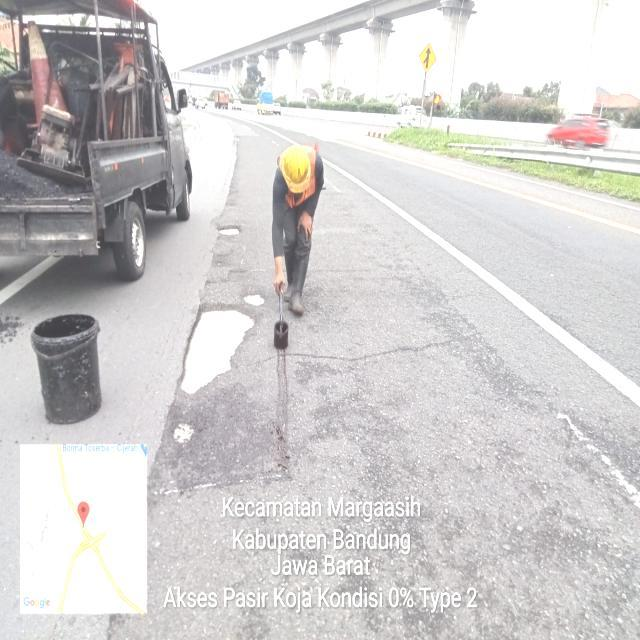Buraco: (173, 301, 261, 399), (169, 418, 199, 451), (240, 290, 269, 308), (214, 224, 243, 237)
